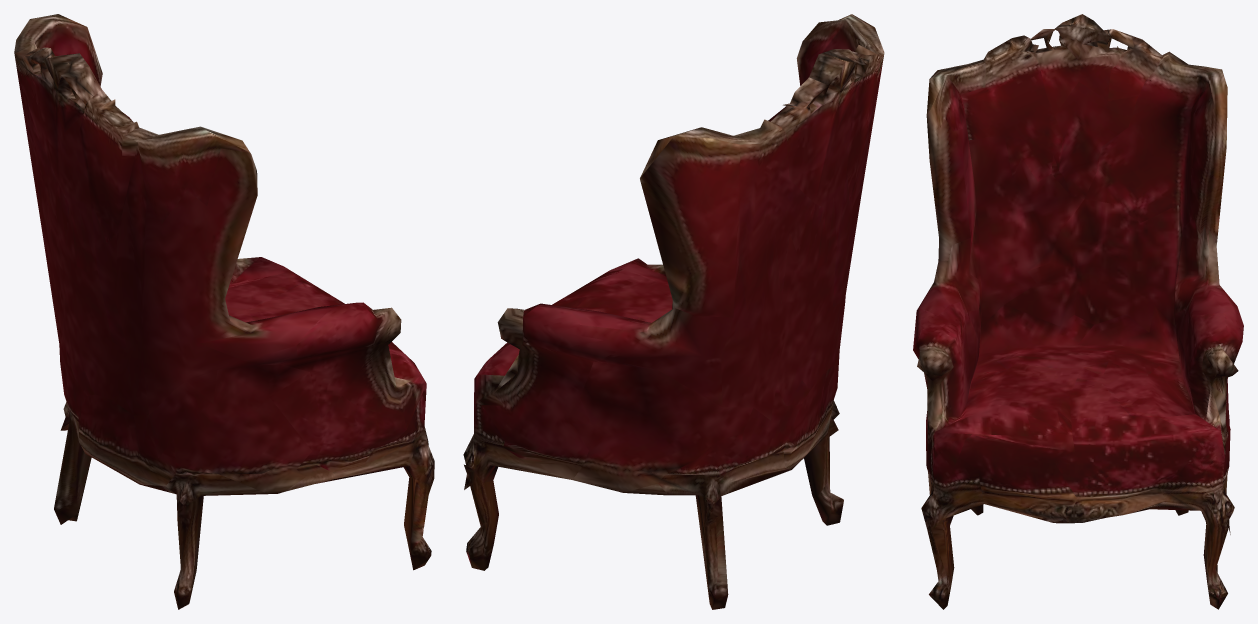
File: sillon.glb
3 renders of one model, left to right at view 1: azimuth 30°, elevation 25°; view 2: azimuth 150°, elevation 25°; view 3: azimuth 270°, elevation 25°, orthographic. The views are drawn at different scales.
Visible parts, largest first — view 1: tripo_node_8bb95d71-c15e-4042-ae35-f7daaa556211; view 2: tripo_node_8bb95d71-c15e-4042-ae35-f7daaa556211; view 3: tripo_node_8bb95d71-c15e-4042-ae35-f7daaa556211.
Boxes of the visible parts, left/top/right/bottom form: tripo_node_8bb95d71-c15e-4042-ae35-f7daaa556211: left=14, top=14, right=434, bottom=609; tripo_node_8bb95d71-c15e-4042-ae35-f7daaa556211: left=463, top=14, right=884, bottom=609; tripo_node_8bb95d71-c15e-4042-ae35-f7daaa556211: left=913, top=14, right=1243, bottom=609.
Size of the model in its own units: 0.6345 by 0.9931 by 0.6387.
Materials: 1 (1 with a texture image).
